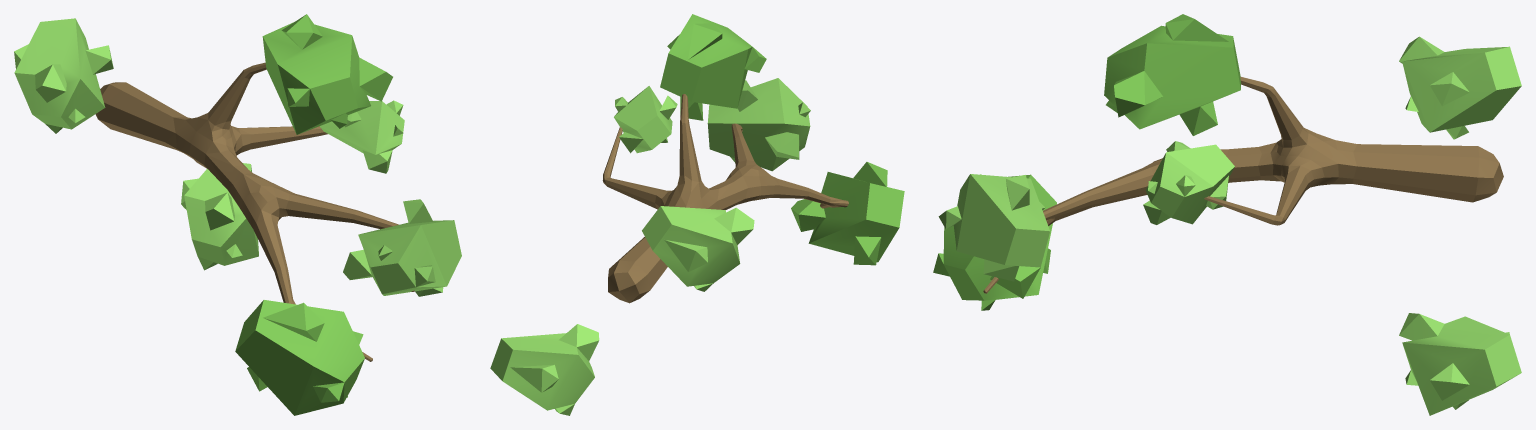
File: trees.glb
3 views of the same model, side by side, from view 1: azimuth 30°, elevation 25°; view 2: azimuth 150°, elevation 25°; view 3: azimuth 270°, elevation 25° (orthographic). The views are drawn at different scales.
Visible parts, largest first — view 1: BranchesCBranchesuBranchesbBrancheseBranches.Branches0Branc. (×6), Empty.056; view 2: BranchesCBranchesuBranchesbBrancheseBranches.Branches0Branc. (×6), Empty.056; view 3: BranchesCBranchesuBranchesbBrancheseBranches.Branches0Branc. (×6), Empty.056.
Boxes of the visible parts, x1=… form: BranchesCBranchesuBranchesbBrancheseBranches.Branches0Branc. (×6): x1=14, y1=14, x2=461, y2=415; Empty.056: x1=95, y1=62, x2=414, y2=361; BranchesCBranchesuBranchesbBrancheseBranches.Branches0Branc. (×6): x1=490, y1=14, x2=904, y2=415; Empty.056: x1=602, y1=94, x2=848, y2=303; BranchesCBranchesuBranchesbBrancheseBranches.Branches0Branc. (×6): x1=933, y1=14, x2=1521, y2=415; Empty.056: x1=983, y1=76, x2=1503, y2=293.
Bounding box in the file's own units: 0.5231 × 0.6687 × 0.9458.
